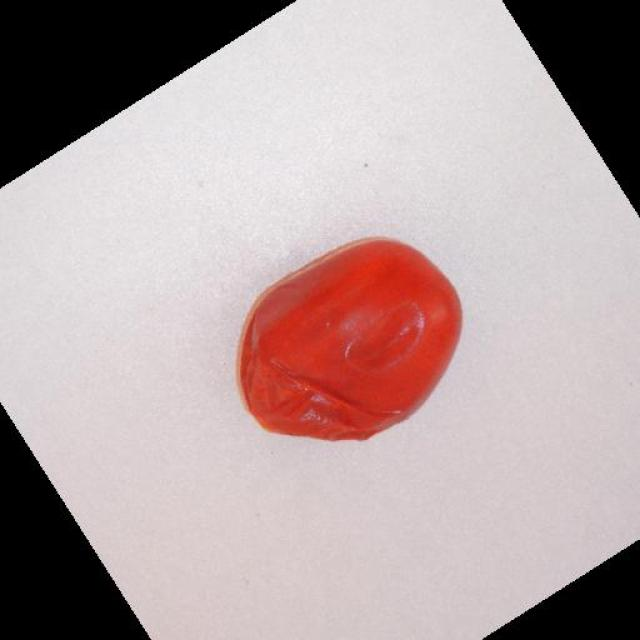Stale_tomato: (228, 241, 438, 456)
